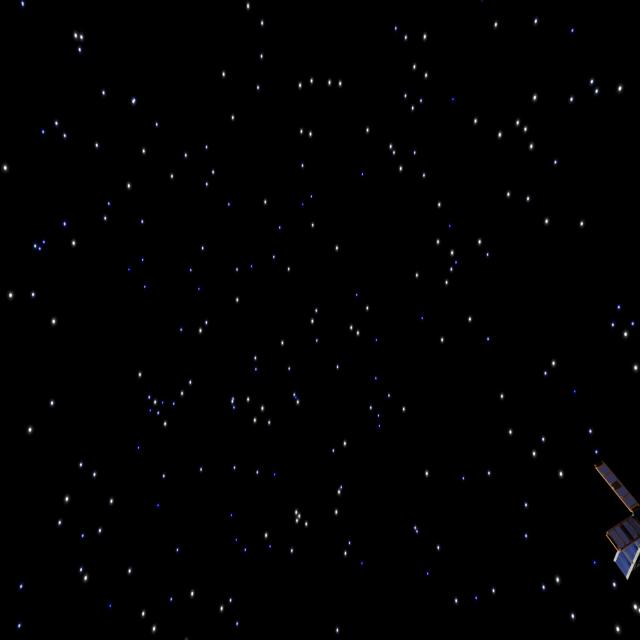medium_debris: (595, 450, 640, 586)
